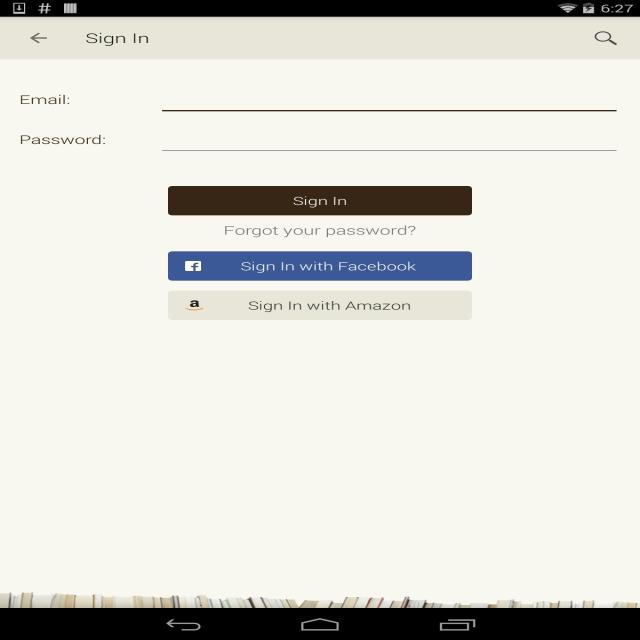button: (169, 185, 472, 215), (169, 251, 473, 280), (168, 290, 472, 319), (594, 30, 624, 51), (24, 30, 54, 50)
field: (155, 119, 621, 150)
heading: (81, 28, 153, 50)
label: (154, 83, 619, 111), (16, 133, 110, 146), (19, 93, 76, 106)
text: (223, 224, 418, 238)
